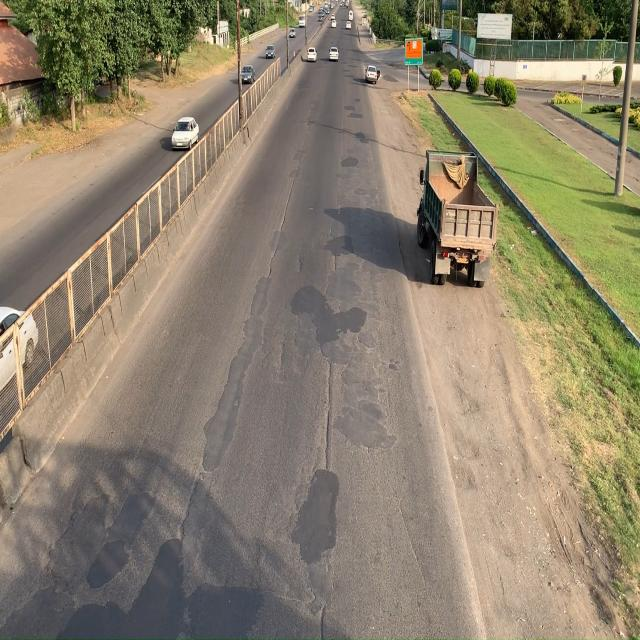Truck: (414, 148, 499, 290)
cars: (170, 114, 200, 154)
